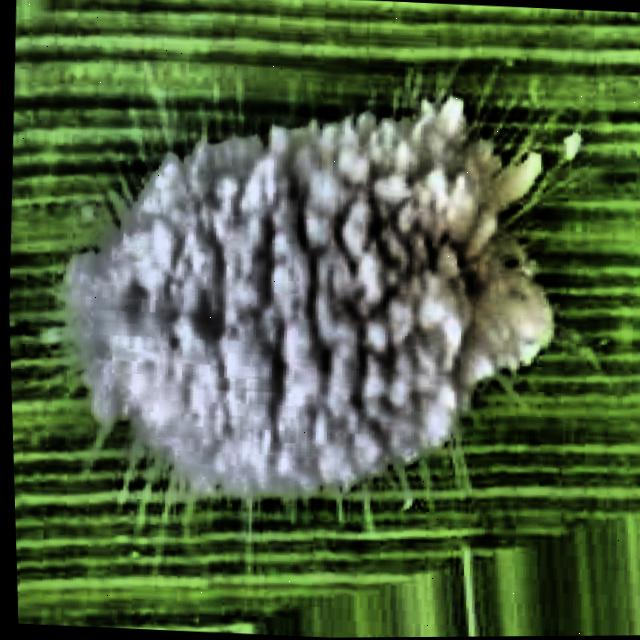Mealy-bug: (2, 77, 621, 626)
